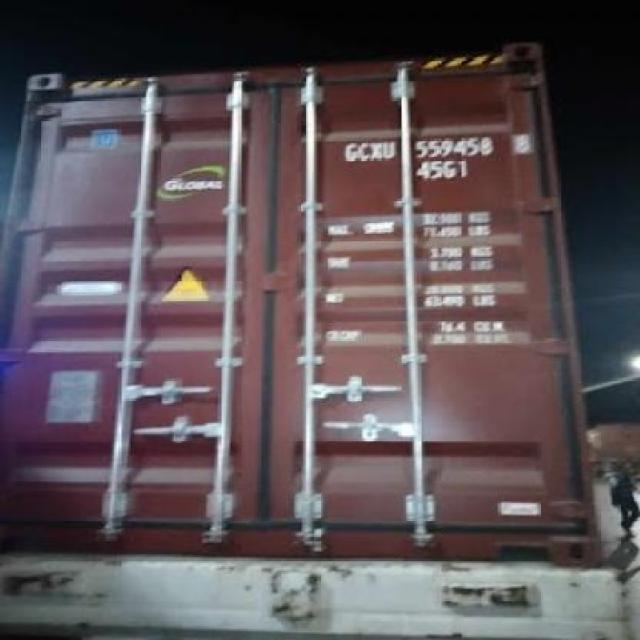ISO: (414, 160, 471, 180)
container_number: (338, 129, 526, 164)
